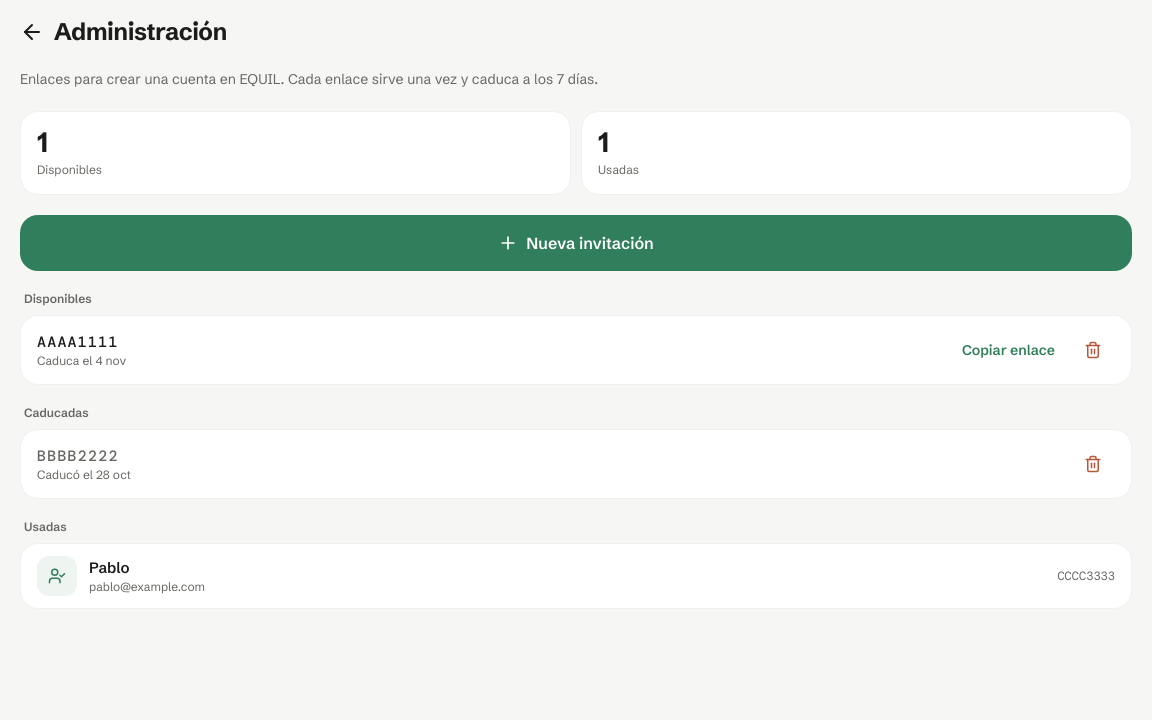
it: AdminInvites › Anular opens a danger sheet and voids the invite only on confirm
Click the button named "Anular invitación AAAA1111" at (1093, 350), box [1071,328,1115,372]
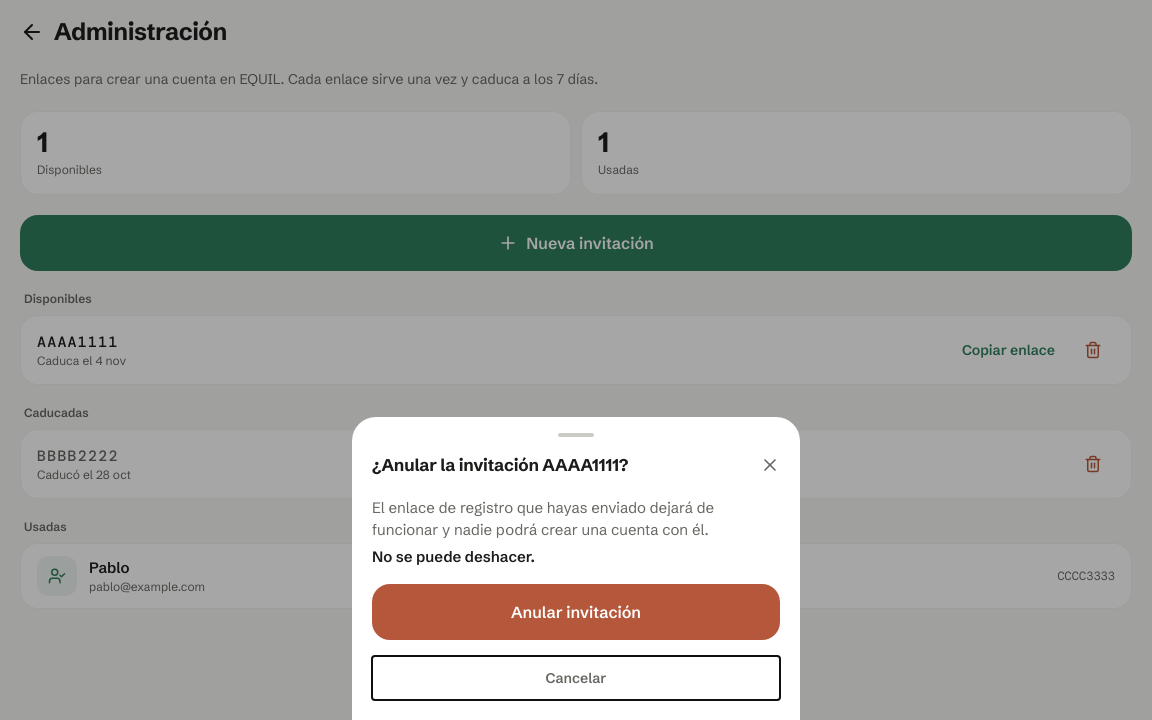
Result: the heading "¿Anular la invitación AAAA1111?" is shown at [372,454,628,475]
Result: the list item "El enlace de registro que hayas enviado dejará de funcionar" is shown at [372,498,714,539]
Click the button "Anular invitación" at (576, 612), box [372,584,780,640]
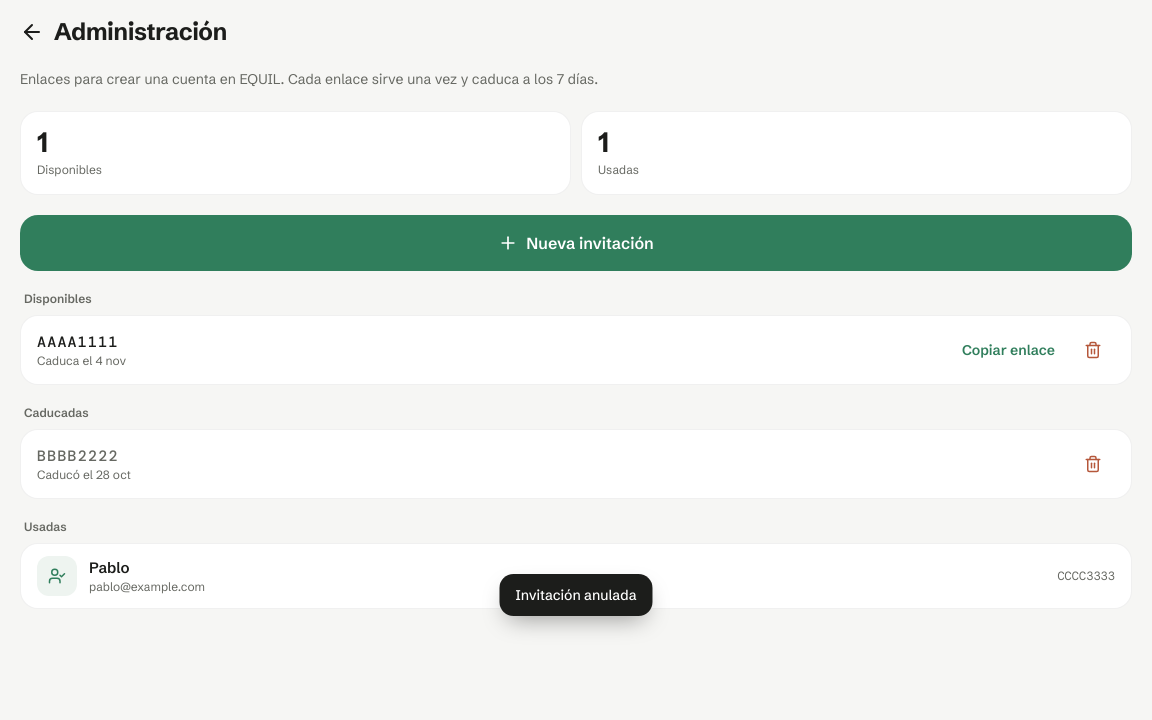
Result: the text "Invitación anulada" is shown at [500,574,652,616]
